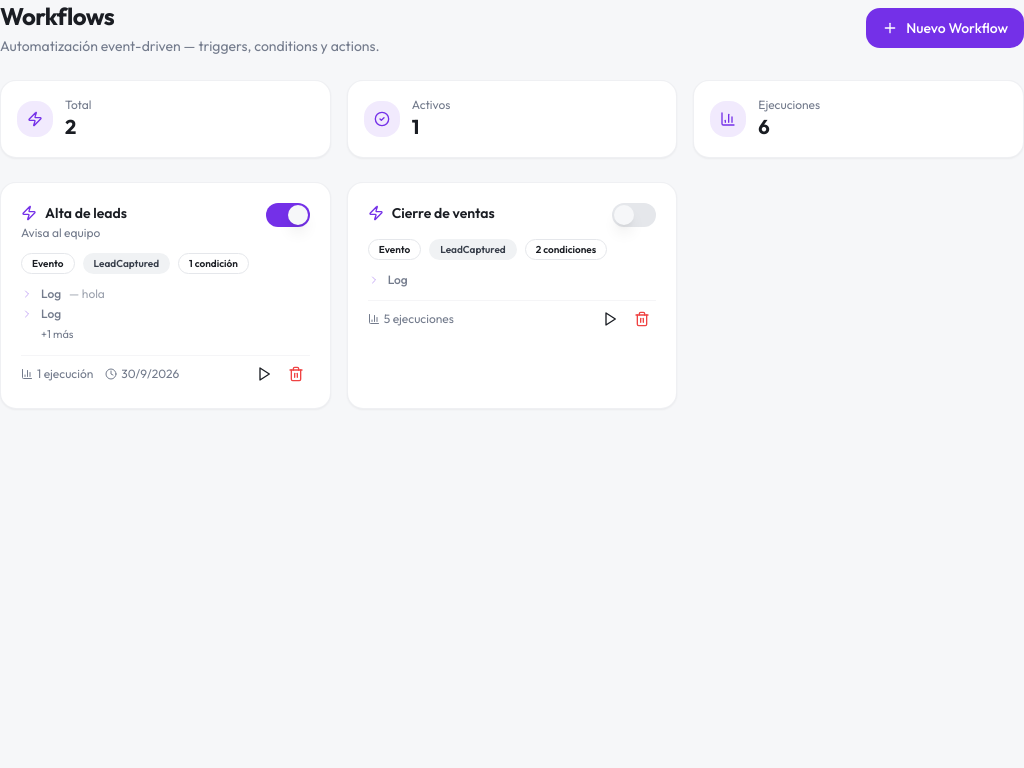
Scenario: Workflows, in Spanish › falls back to the raw value for a status the catalogue does not know
Expected: the text "Alta de leads" is shown, [45, 203, 127, 223]
Click the button named "Ver ejecuciones" next to "30/9/2026".
click(264, 374)  # box [250, 360, 278, 388]
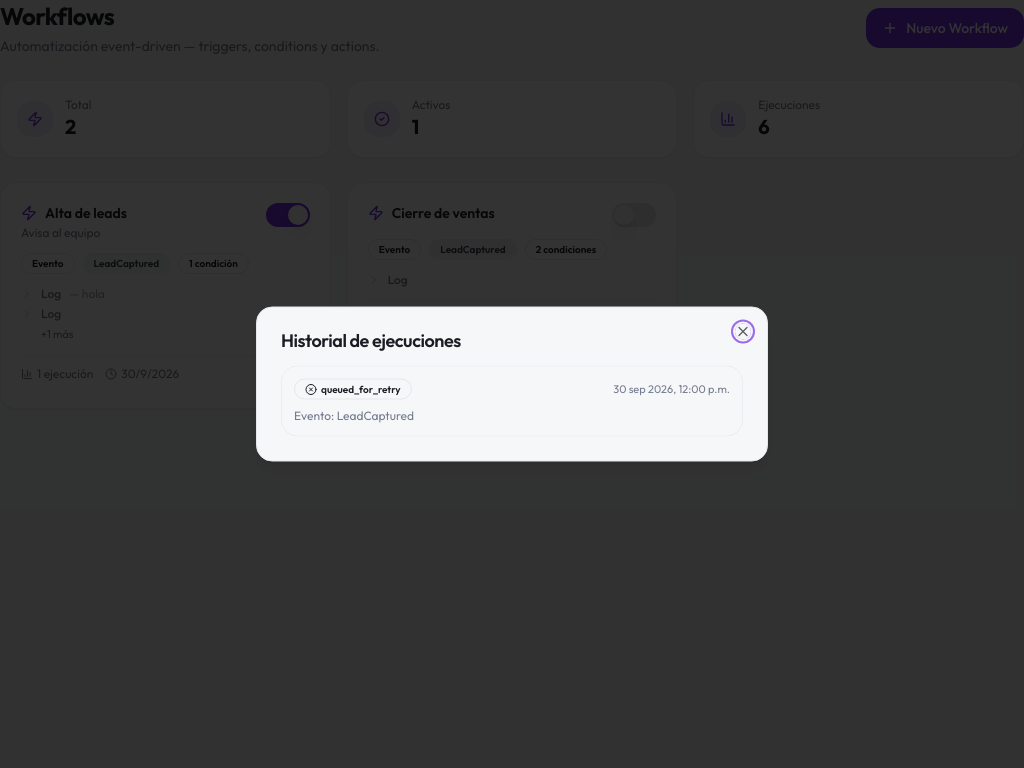
Expected: the text "queued_for_retry" is shown, [294, 378, 412, 400]
